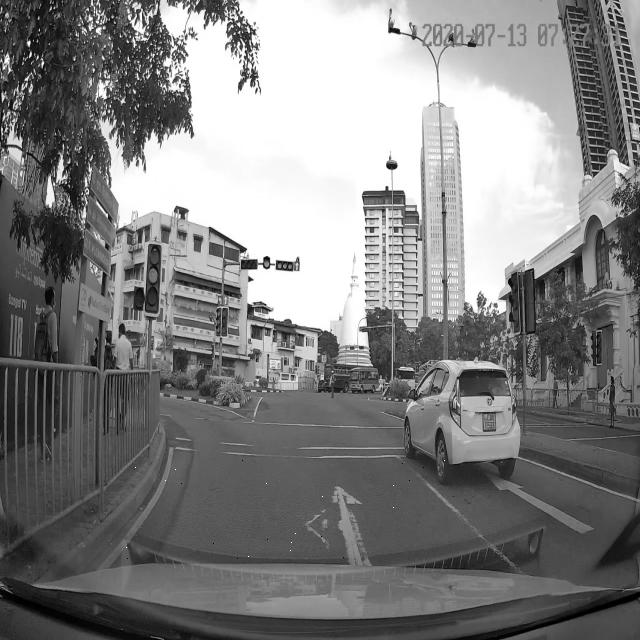forward_lft: (104, 459, 494, 560)
